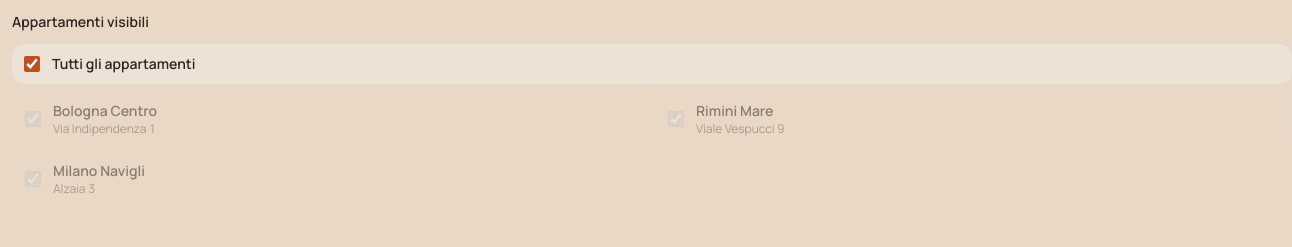
Test: scelta degli appartamenti › togliendo «Tutti» si parte da nessuno e compare l'avviso; scegliendone uno l'avviso sparisce
The width and height of the screenshot is (1292, 247).
What coordinates should you click on to do the following:
click the checkbox with test id "scope-all"
I would click on:
 (32, 64)
Its box is [24,56,40,72].
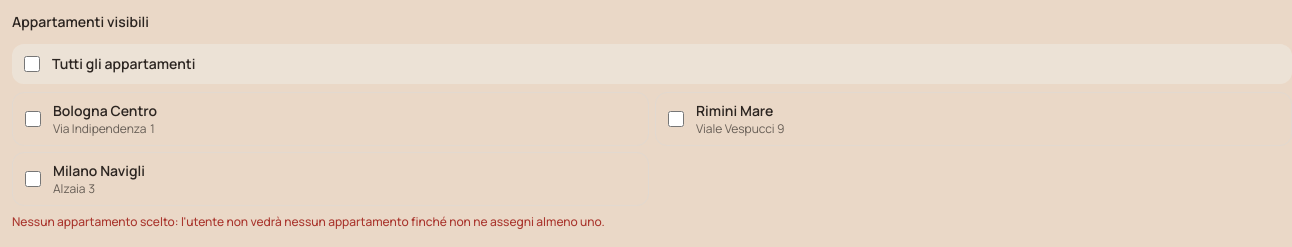
Result: the text with test id "scope-none-warning" shows "Nessun appartamento scelto: l'utente non vedrà nessun appartamento finché non ne assegni almeno uno." at [12,213,605,230]
What coordinates should you click on to do the following:
click the checkbox with test id "scope-apt-rimini-01"
I would click on:
 (676, 119)
Its box is [668,111,684,127].
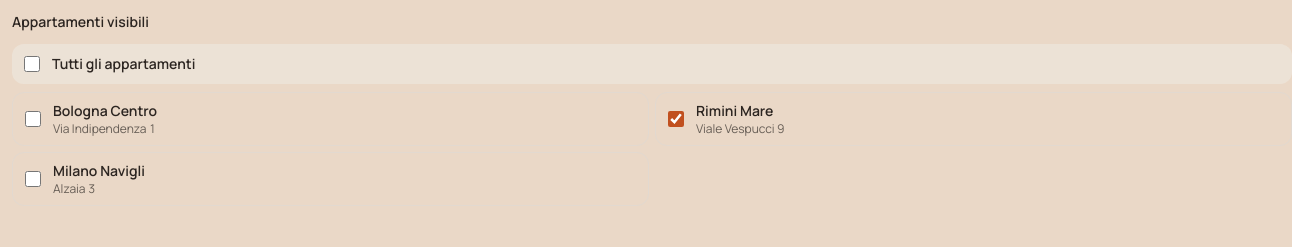
Result: the text with test id "scope-none-warning" is gone
